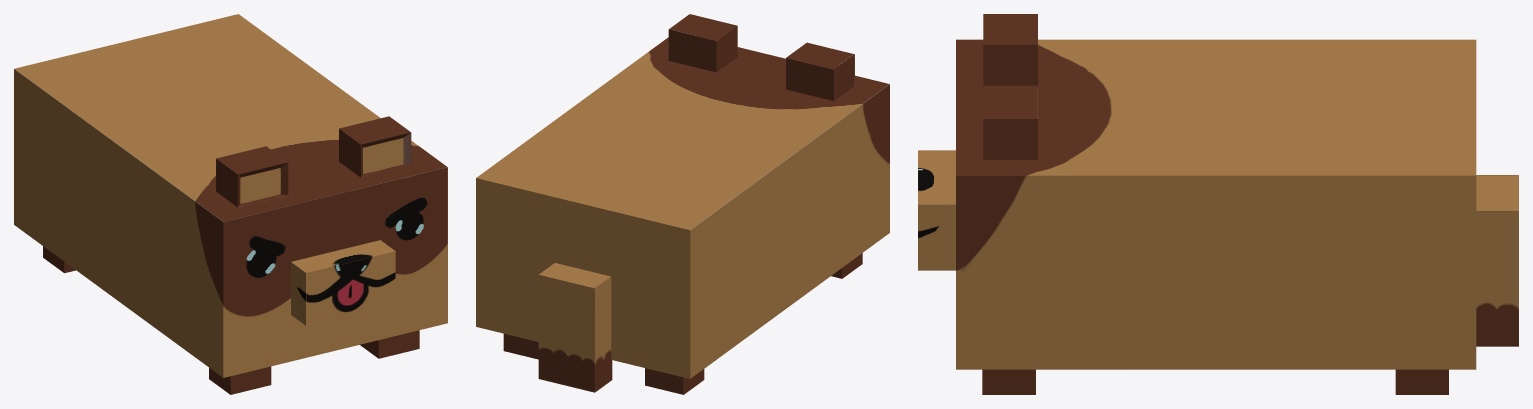
File: bastard.glb
3 views of the same model, side by side, from view 1: azimuth 30°, elevation 25°; view 2: azimuth 150°, elevation 25°; view 3: azimuth 270°, elevation 25° (orthographic). The views are drawn at different scales.
Parts seen in each view (by area): view 1: Körper.002, Beine.002; view 2: Körper.002, Beine.002; view 3: Körper.002, Beine.002.
Boxes of the visible parts, x1=… form: Körper.002: x1=14, y1=14, x2=447, y2=377; Beine.002: x1=43, y1=246, x2=419, y2=394; Körper.002: x1=476, y1=14, x2=889, y2=392; Beine.002: x1=503, y1=253, x2=862, y2=394; Körper.002: x1=918, y1=14, x2=1518, y2=369; Beine.002: x1=982, y1=369, x2=1448, y2=394.
Size of the model in its own units: 2 by 1.86 by 3.73.
5 materials, 5 textured.
